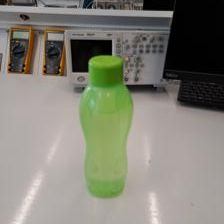bottle: (77, 52, 135, 200)
